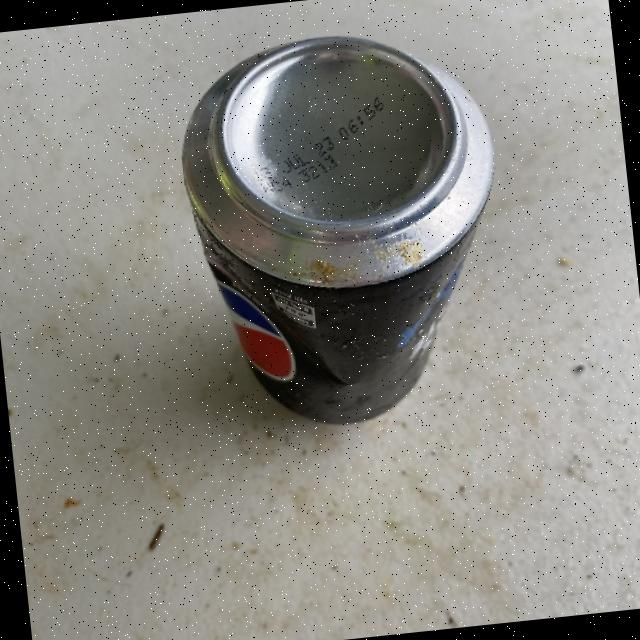metal: (168, 17, 520, 439)
